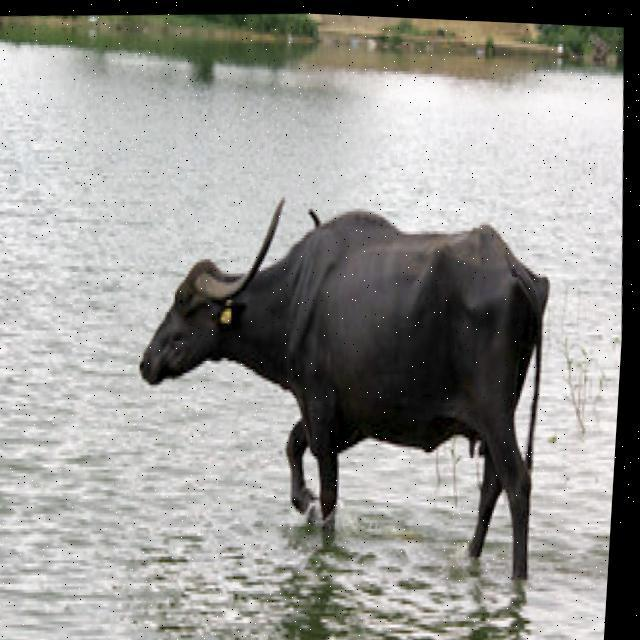Buffalo: (114, 171, 573, 604)
